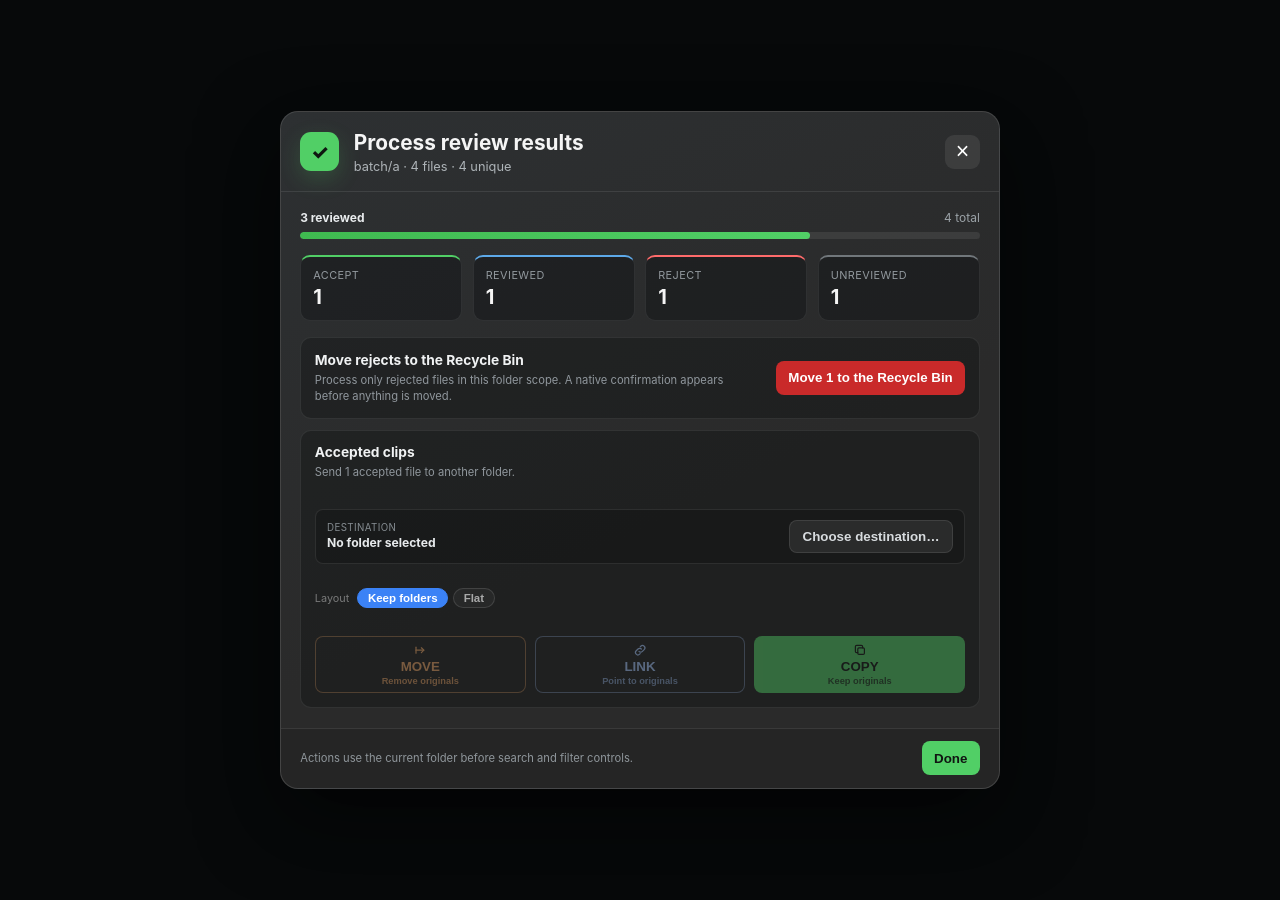
Test: ProcessReviewResultsDialog › warns about symbolic link rights on Windows
Step 1. Click the button "Choose destination…" → (871, 536), box [789,520,953,553]
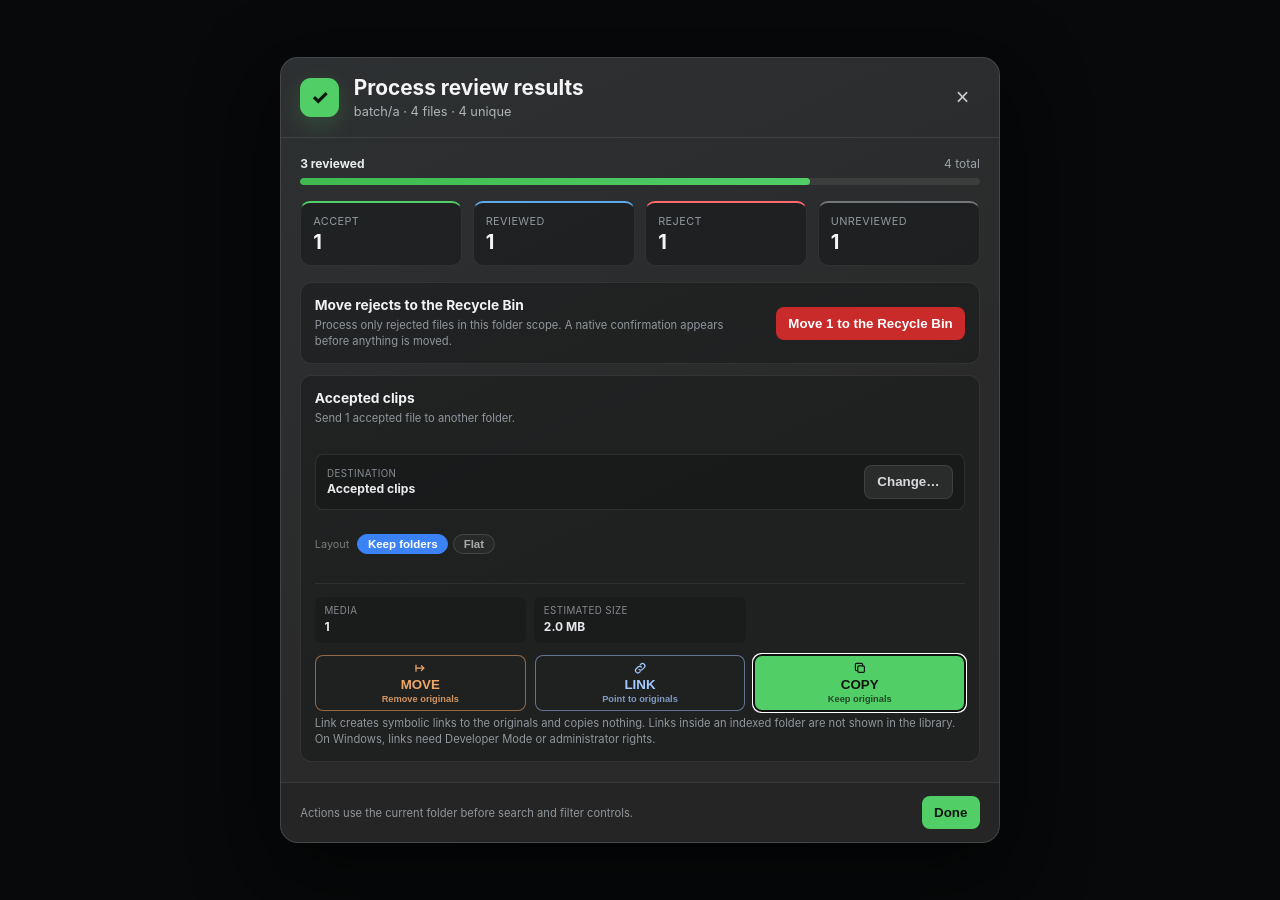
Now the text "Developer Mode or administrator rights" is shown, box [315,732,656,746]
